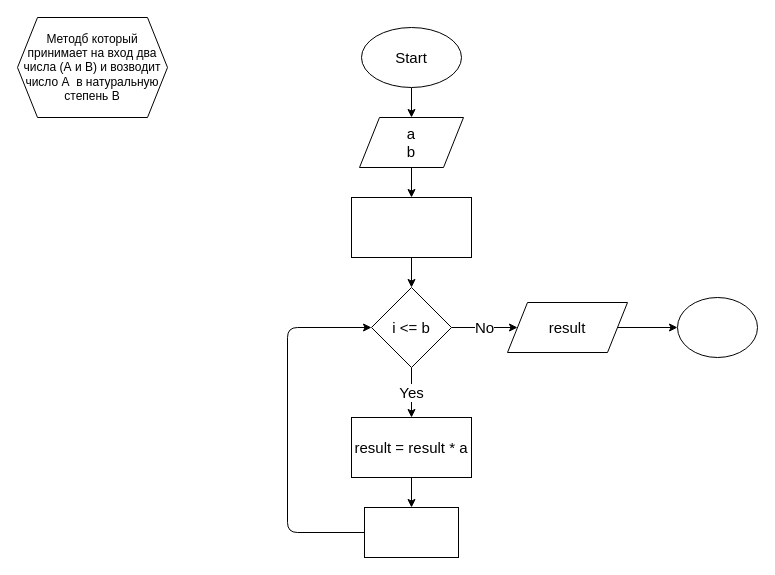
The diagram is 775 pixels wide and 575 high, and some of its shapes have lost their labels. Here are the shapes that lost their labels. From the top down, the box of each, then its label:
(350, 196, 472, 258): result = 1 i = 1
(676, 296, 758, 358): End
(364, 506, 458, 558): i = i + 1
